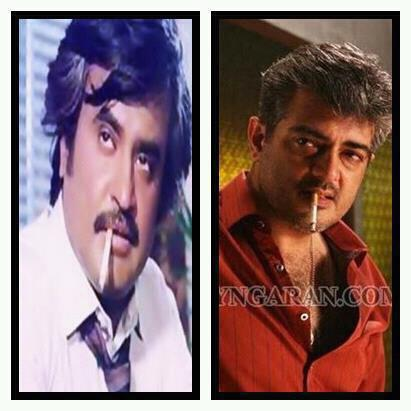cigarette: (98, 218, 114, 292)
